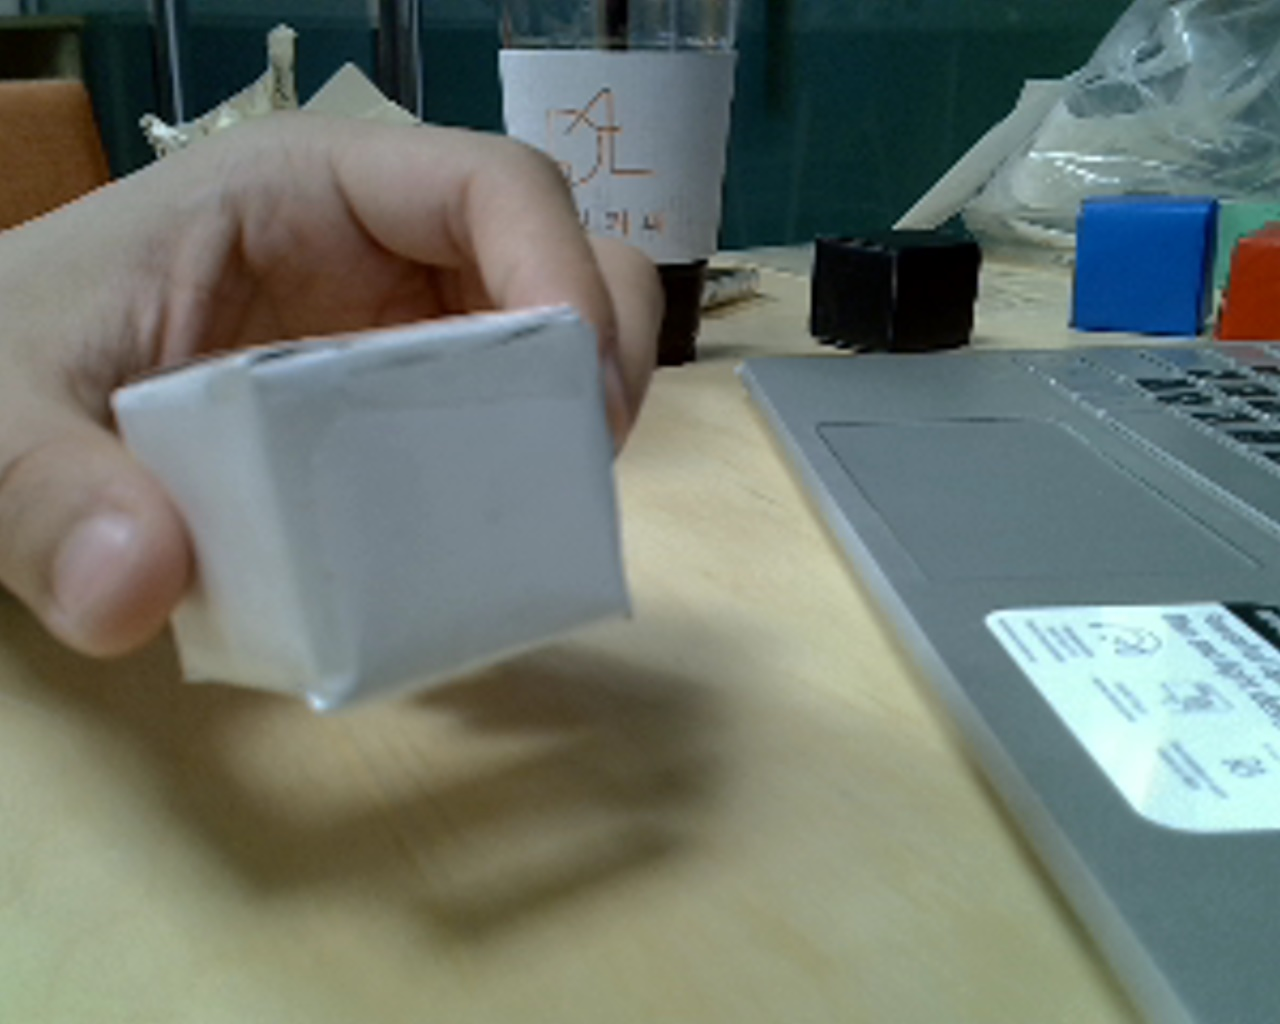whitebox: (94, 285, 671, 741)
